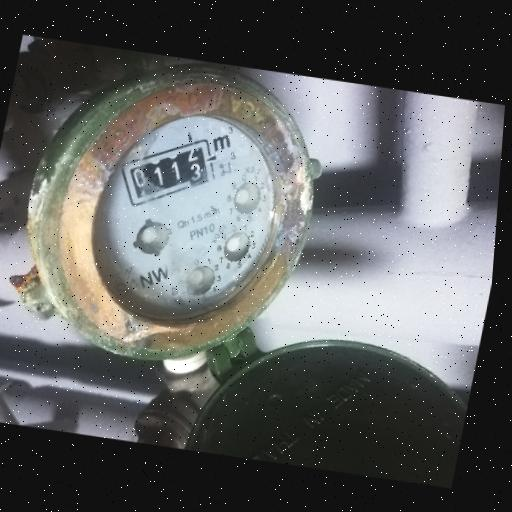0: (123, 162, 160, 201)
1: (140, 155, 179, 197), (159, 149, 196, 189)
2: (177, 144, 217, 190)
border_water_meter_number: (112, 125, 227, 220)
